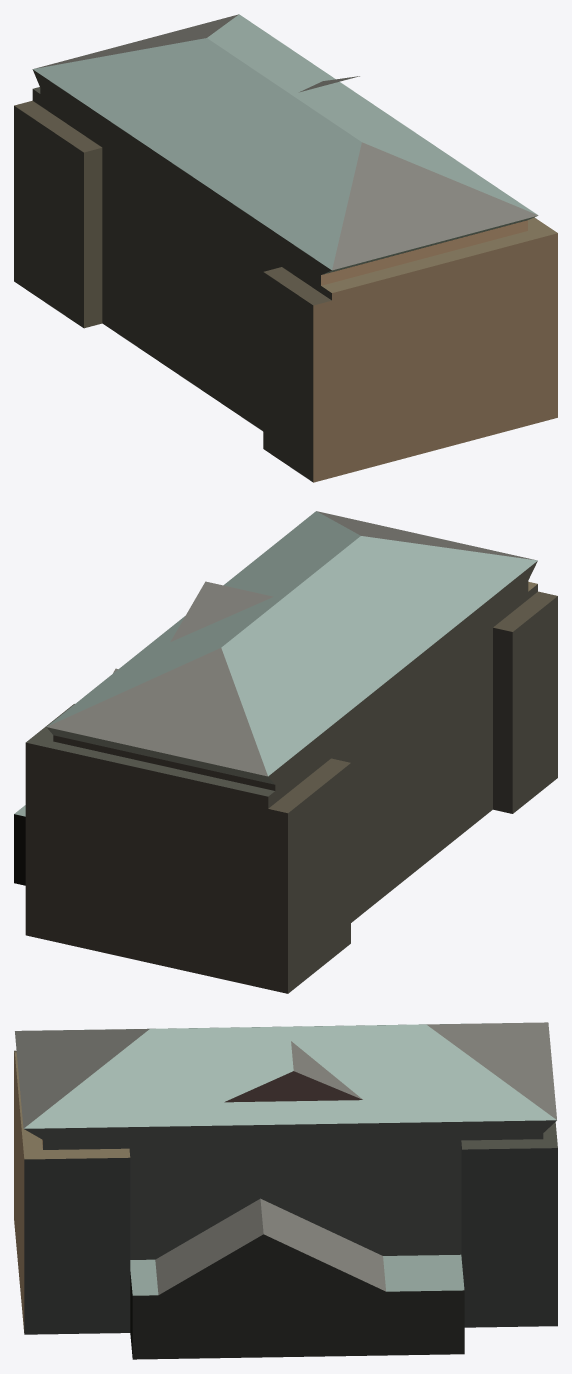
Rendered from hilton-garden-inn-chattanooga-downtown.glb.
3 views of the same model, one above another, from view 1: azimuth 30°, elevation 25°; view 2: azimuth 150°, elevation 25°; view 3: azimuth 270°, elevation 25° (orthographic). The views are drawn at different scales.
Parts seen in each view (by area): view 1: LOD0; view 2: LOD0; view 3: LOD0.
Boxes of the visible parts, x1,y1,x2,y2 form: LOD0: (14,14,557,482); LOD0: (14,511,557,993); LOD0: (14,1022,557,1359).
Size of what is drawn, in the model's own units: 29.46 by 22.63 by 45.42.
Materials: 2 (2 with a texture image).
